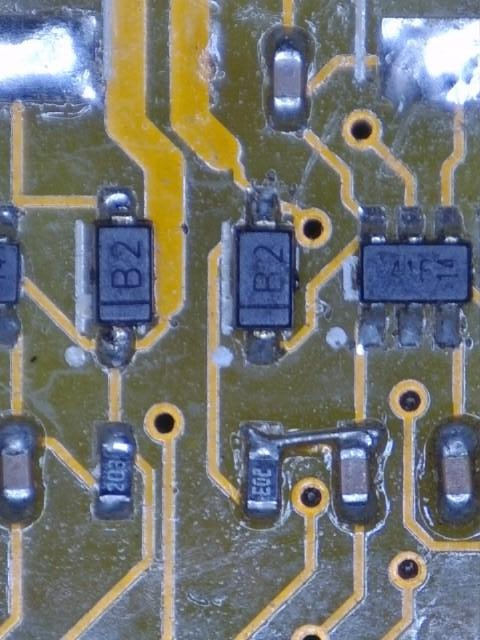pcb_defect: (243, 424, 379, 461), (96, 327, 134, 366), (435, 304, 461, 348), (0, 425, 35, 454), (360, 207, 387, 244), (359, 308, 384, 347), (398, 308, 422, 347), (248, 332, 276, 364), (399, 206, 422, 237), (436, 208, 461, 236)
